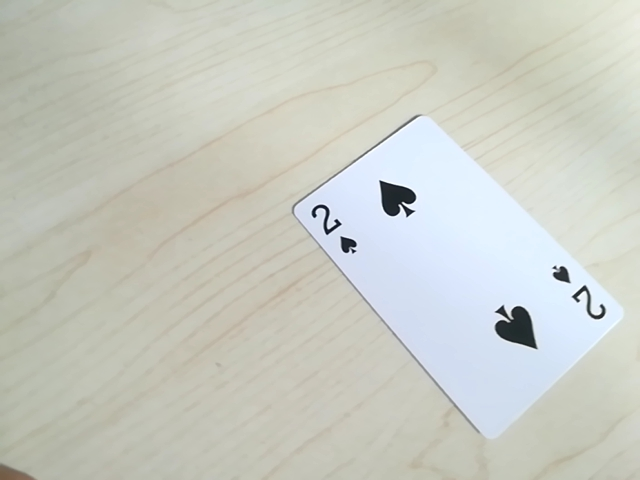ht 2: (543, 257, 607, 330), (304, 197, 356, 259)
